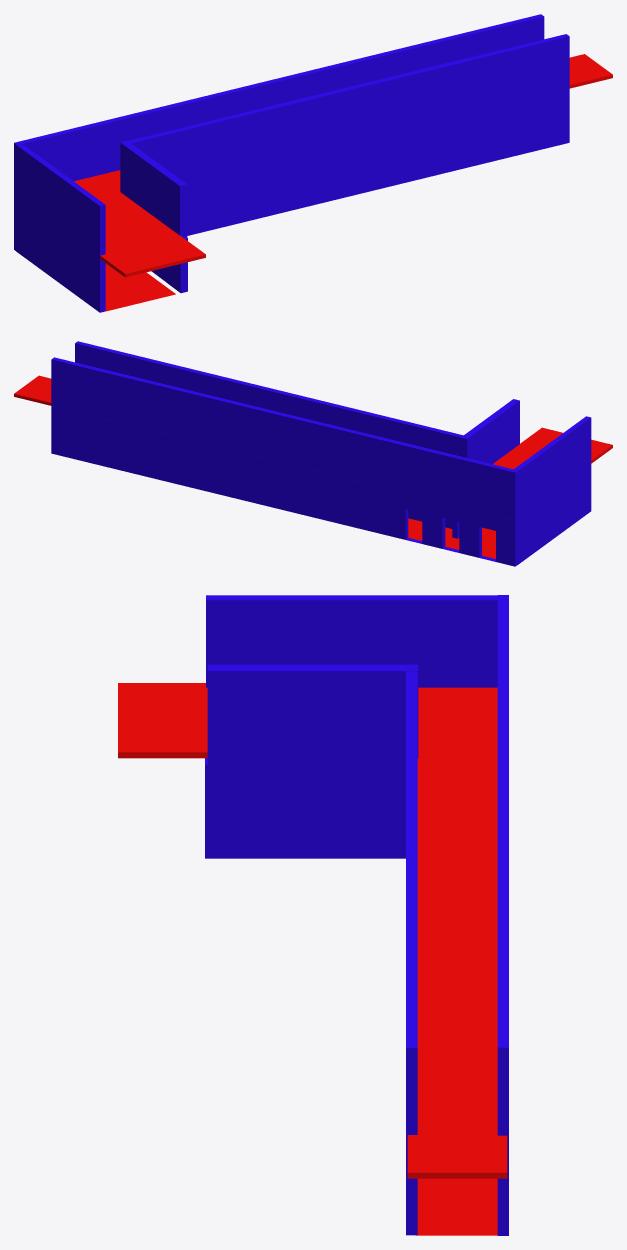
File: ENV_KappaKartHouse.FBX
3 views of the same model, one above another, from view 1: azimuth 30°, elevation 25°; view 2: azimuth 150°, elevation 25°; view 3: azimuth 270°, elevation 25° (orthographic). The views are drawn at different scales.
Parts seen in each view (by area): view 1: walls, school; view 2: walls, school; view 3: walls, school.
Part boxes in pixels (left/top/right/bottom): walls: left=14, top=14, right=569, bottom=312; school: left=74, top=54, right=612, bottom=311; walls: left=51, top=341, right=591, bottom=566; school: left=14, top=375, right=612, bottom=558; walls: left=205, top=595, right=508, bottom=1235; school: left=118, top=683, right=507, bottom=1235.
Bounding box in the file's own units: 296 × 99.82 × 52.98.
